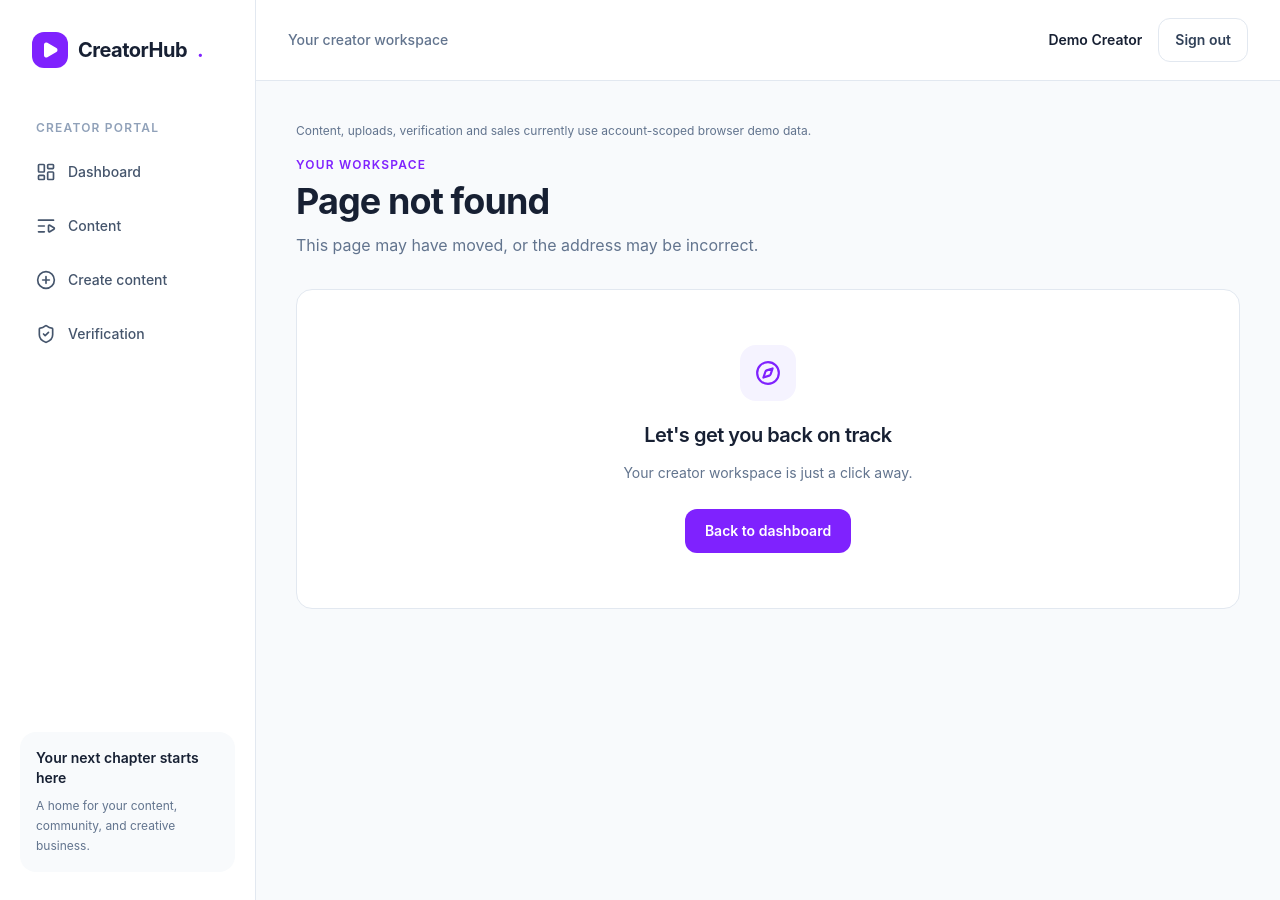
creator portal navigation › offers a working recovery link for unknown routes
Check: the heading "Page not found" is shown, box [296,179,549,223]
Click the link "Back to dashboard" at [768, 531], box [685,509,851,553]
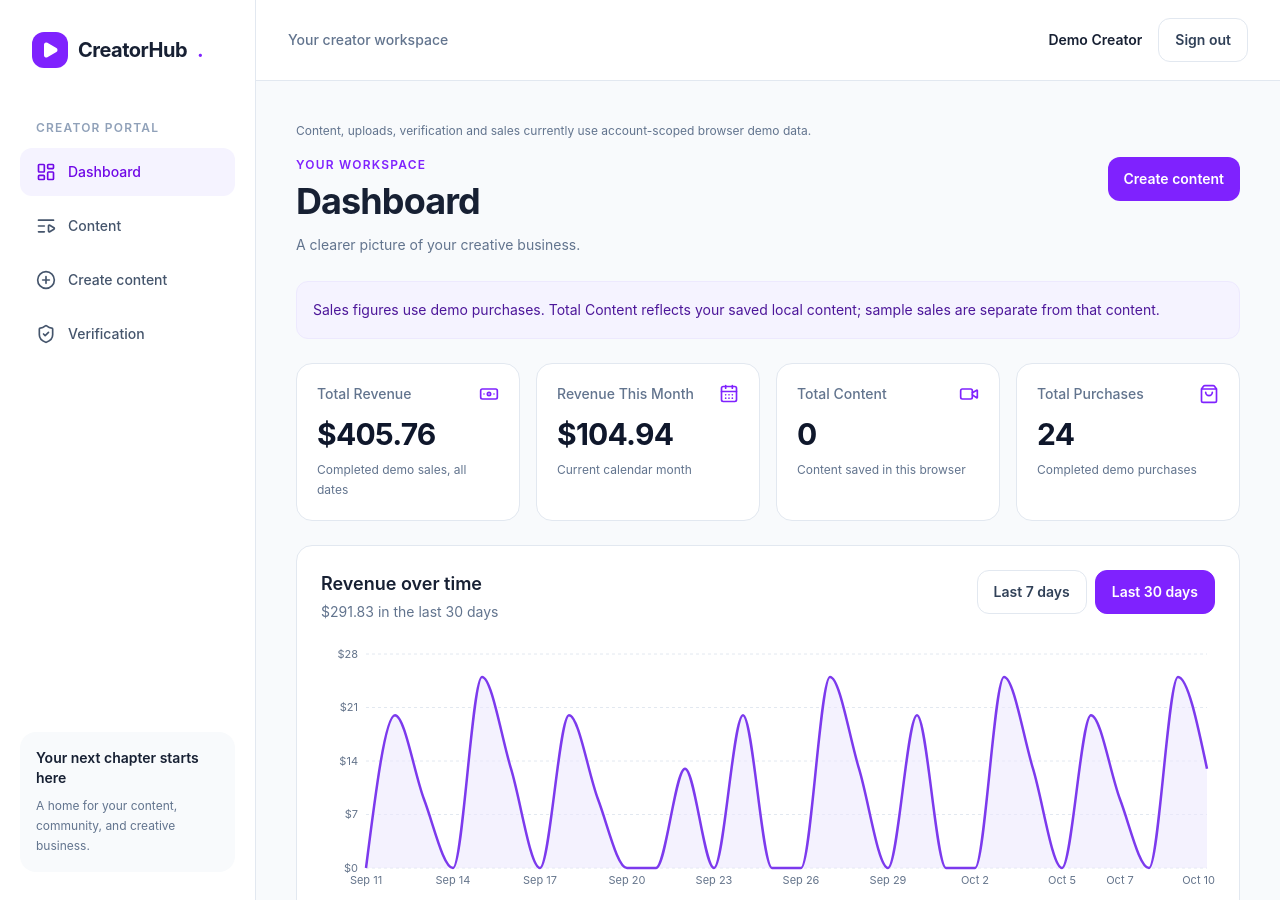
Check: the heading "Dashboard" is shown, box [296,179,480,223]
